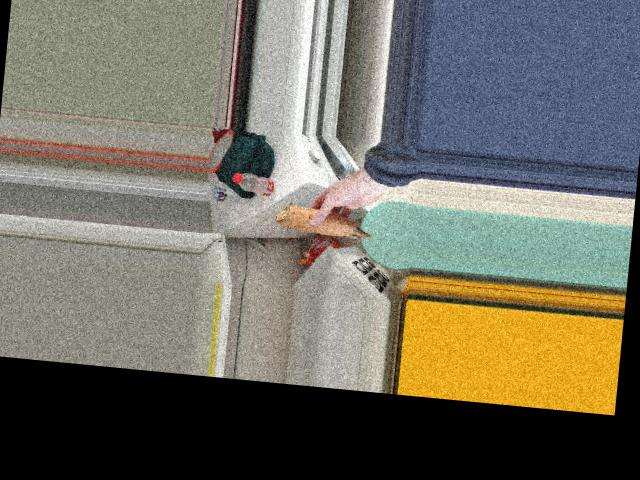sweet_potato: (280, 205, 372, 239)
